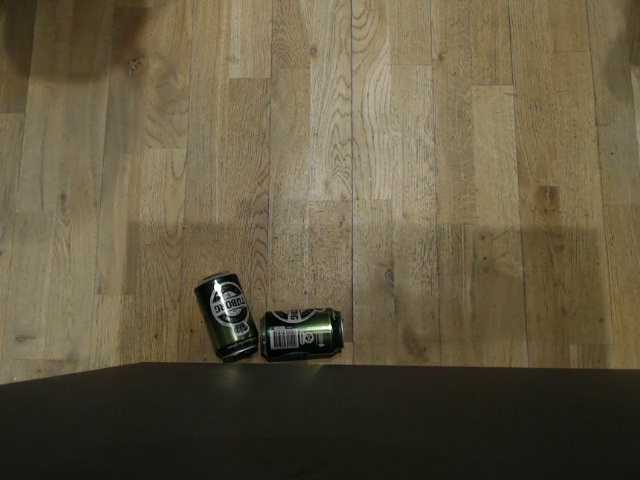beer: (194, 268, 260, 361), (260, 308, 342, 361)
